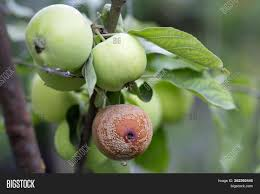apple: (30, 7, 90, 69), (94, 41, 147, 84)
damaged_apple: (90, 103, 158, 158)
